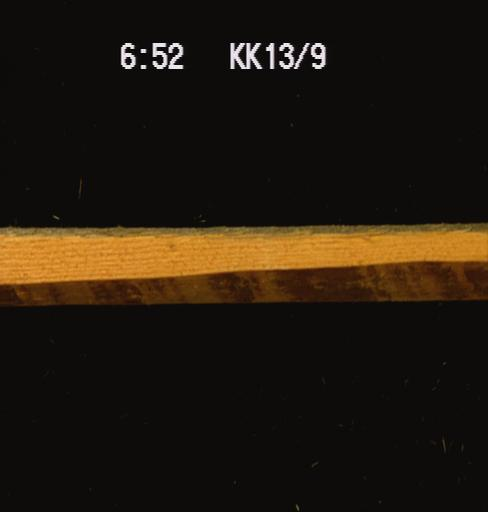wave: (1, 275, 487, 304), (8, 224, 486, 246)
